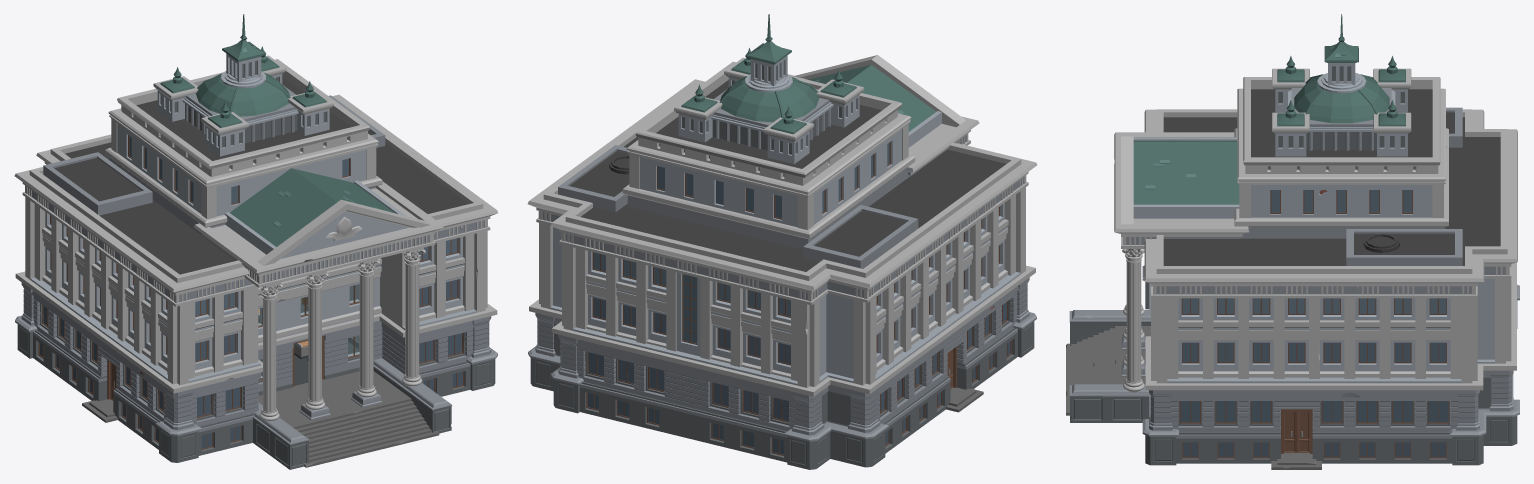
The model's file is SM_Buildings_CityHall_01.fbx.
3 renders of one model, left to right at view 1: azimuth 30°, elevation 25°; view 2: azimuth 150°, elevation 25°; view 3: azimuth 270°, elevation 25°, orthographic. The views are drawn at different scales.
Visible parts, largest first — view 1: SM_Buildings_CityHall_01; view 2: SM_Buildings_CityHall_01; view 3: SM_Buildings_CityHall_01.
Boxes of the visible parts, box(x1,y1,x2,y2) form: SM_Buildings_CityHall_01: box(14, 14, 498, 469); SM_Buildings_CityHall_01: box(527, 14, 1037, 469); SM_Buildings_CityHall_01: box(1066, 14, 1519, 469).
Bounding box in the file's own units: 23.24 × 22.29 × 25.01.
